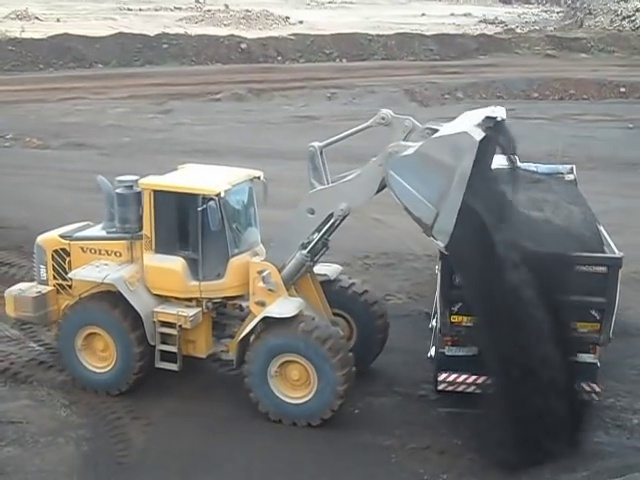truck: (431, 154, 626, 407)
wheel loader: (5, 104, 505, 430)
